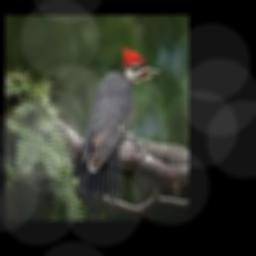Woodpecker: (73, 46, 163, 220)
